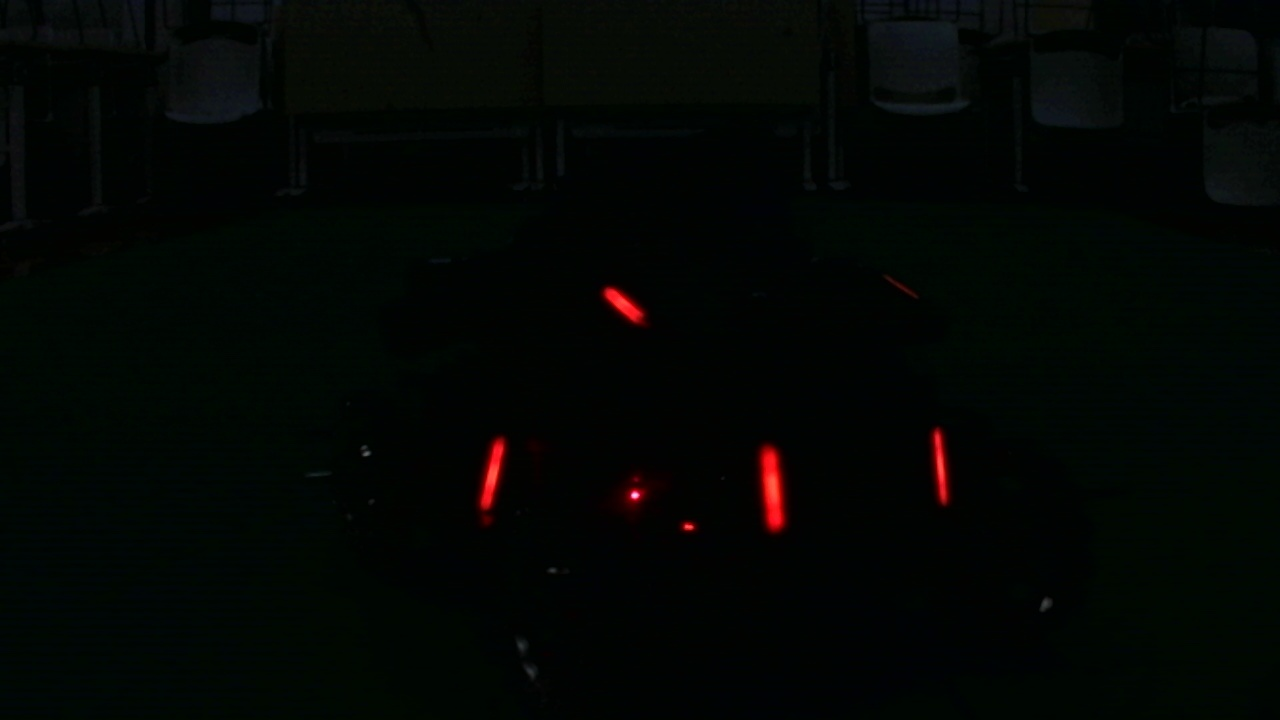lamp: (759, 438, 785, 531), (477, 427, 504, 513), (928, 427, 952, 504)
notpair1: (476, 429, 788, 540)
pair1: (762, 422, 952, 544)
